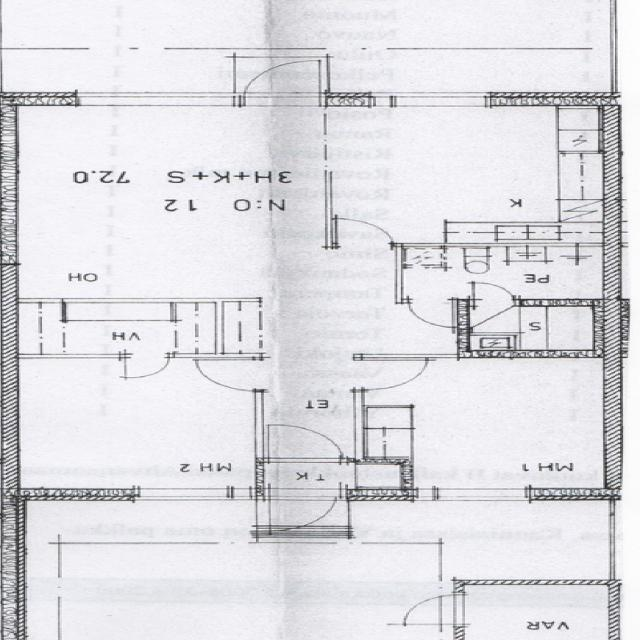door: (241, 50, 324, 106), (269, 488, 345, 540), (269, 421, 342, 463), (392, 593, 466, 625), (194, 360, 264, 391), (356, 360, 422, 390), (337, 216, 392, 247), (124, 354, 170, 382), (472, 278, 514, 306), (409, 299, 452, 325)
